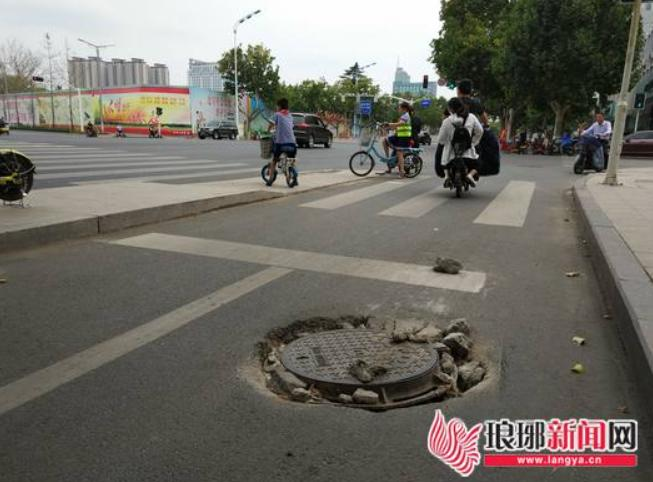wellcover: (232, 264, 530, 418)
